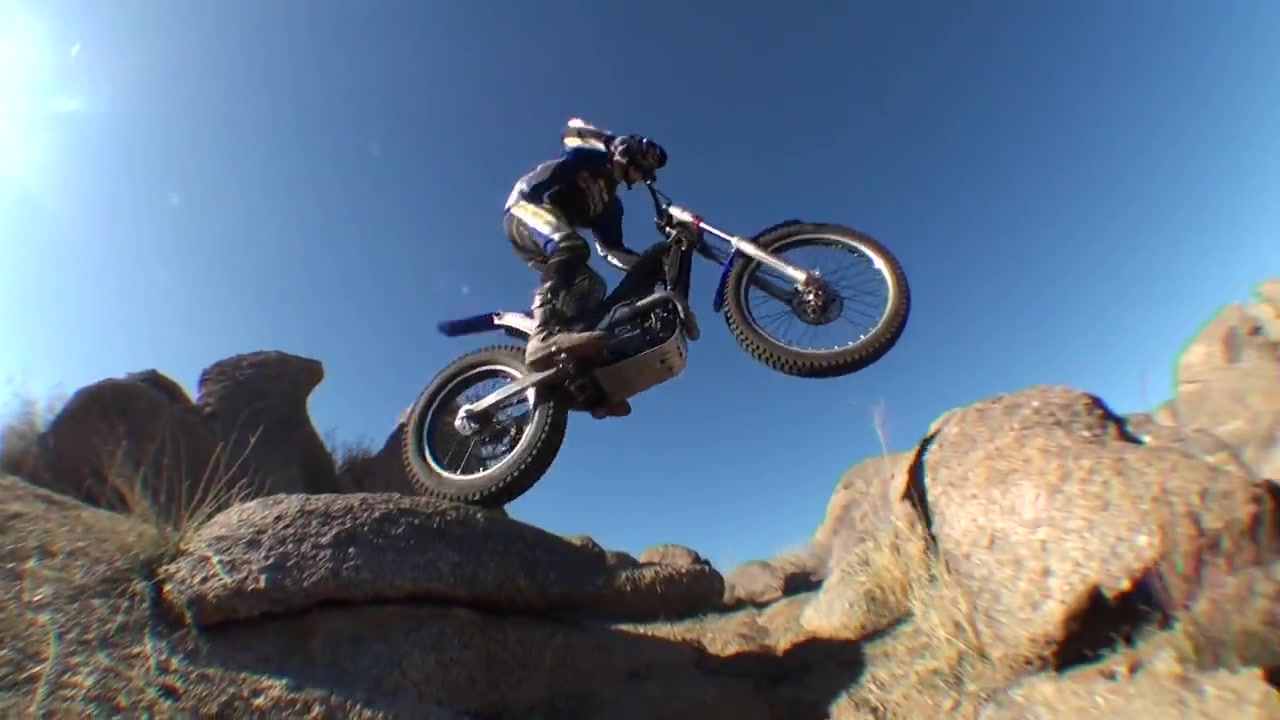motorbike: (370, 162, 918, 511)
